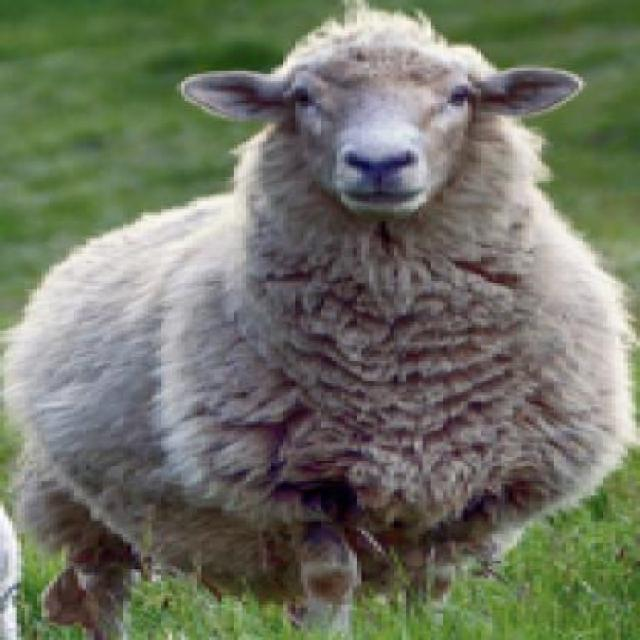Sheep: (0, 0, 637, 638)
